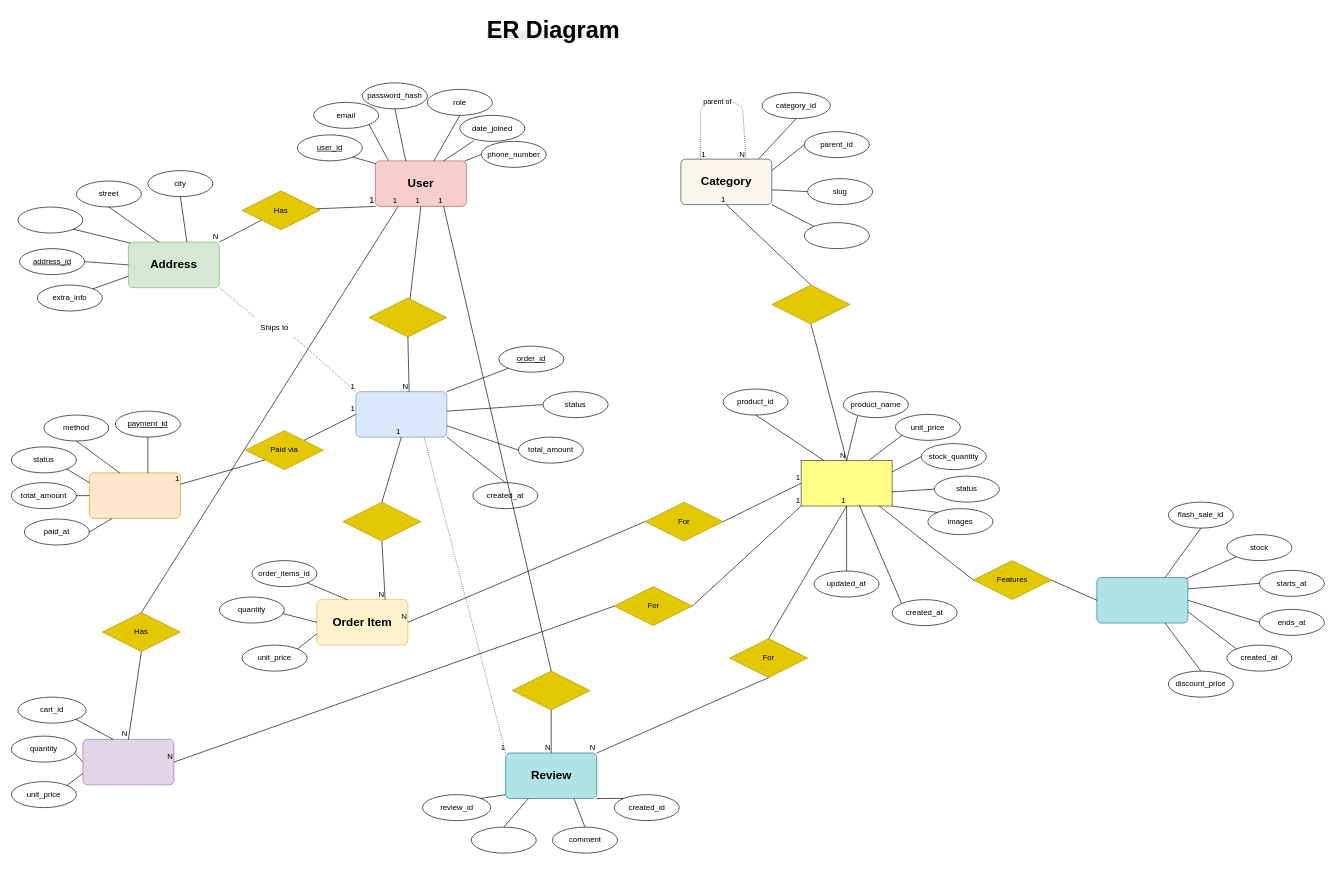
Some shapes in this 1336 by 870 pixel diagram are drawn without their labels. Each missing label, with the centre of its shape:
"apartment" goes at pixel 50 219.
"Cart Item" goes at pixel 128 762.
"Classifies" goes at pixel 810 304.
"Containts" goes at pixel 381 521.
"Creates" goes at pixel 407 317.
"Flash Sales" goes at pixel 1142 600.
"name" goes at pixel 836 235.
"Order" goes at pixel 401 414.
"Payment" goes at pixel 134 495.
"Product" goes at pixel 846 483.
"rating" goes at pixel 503 839.
"Writes" goes at pixel 551 690.
